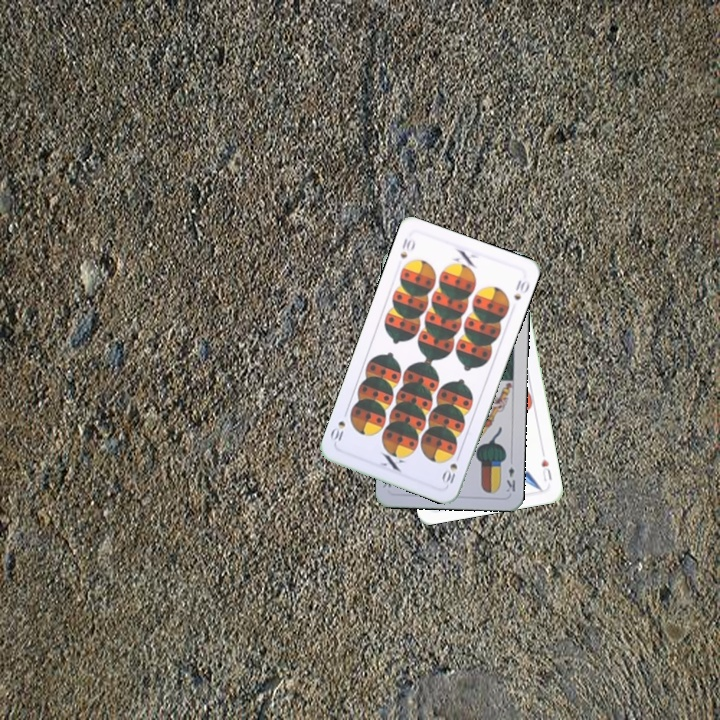EK: (503, 463, 518, 495)
HU: (537, 455, 554, 484)
S10: (438, 449, 463, 486), (396, 234, 418, 261)
